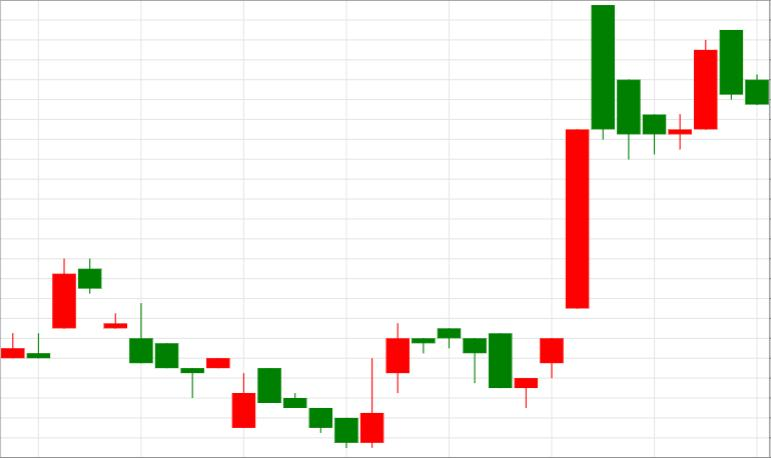inverse_hammer_rise: (129, 303, 384, 448)
